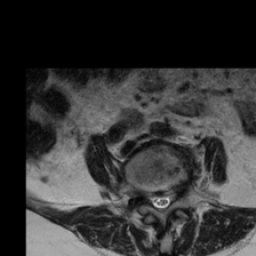CCS_normal: (157, 182, 164, 219)
LFS_normal: (171, 180, 178, 205)
LLS_normal: (164, 182, 171, 213)
RFS_stenosis: (141, 180, 149, 208)
RLS_normal: (149, 183, 157, 213)
